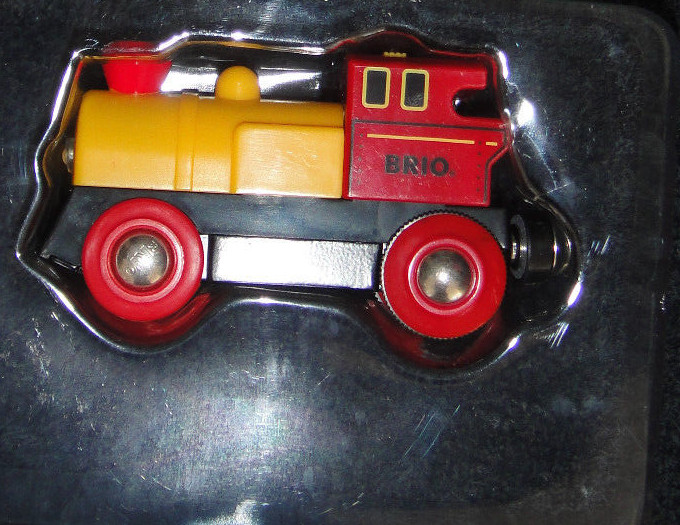brio: (37, 21, 585, 366)
